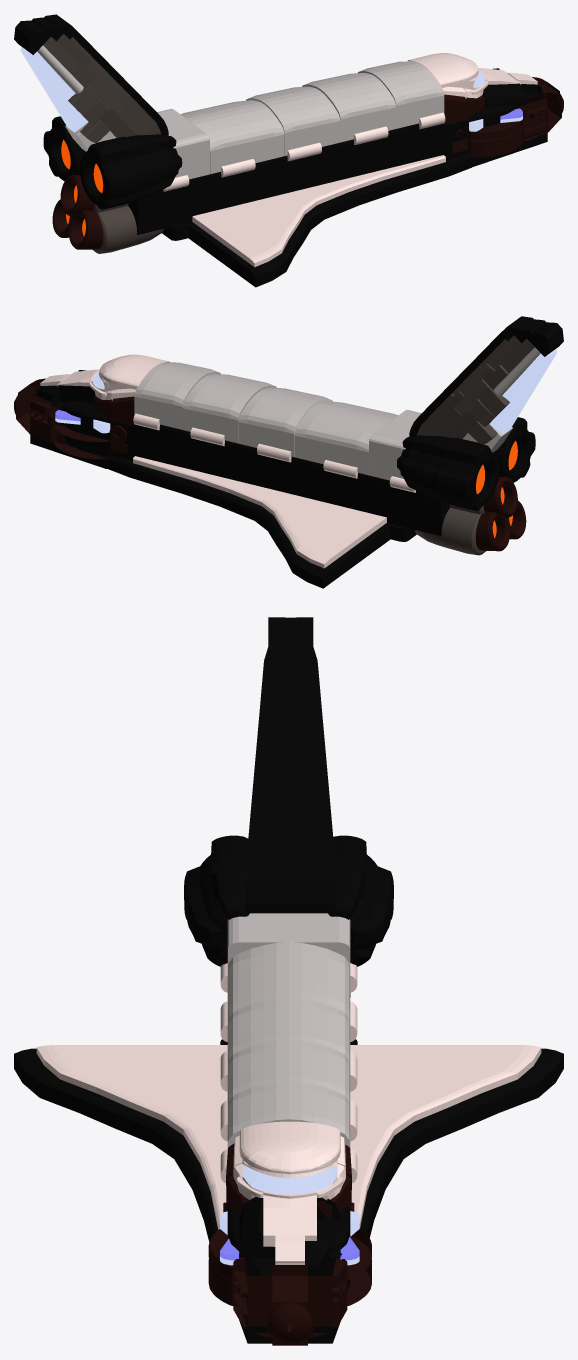
The model's file is space_ship.glb.
3 renders of one model, top to bottom at view 1: azimuth 30°, elevation 25°; view 2: azimuth 150°, elevation 25°; view 3: azimuth 270°, elevation 25°, orthographic. The views are drawn at different scales.
Visible parts, largest first — view 1: spaceship_top, spaceship_head_side_part6.003, spaceship_top_wing, spaceship_below_wing, spaceship_top_engine, spaceship_behind_wing_inner, spaceship_behind_wing_cover, spaceship_top_linker, spaceship_top_connector, spaceship_behind_wing_light, spaceship_bottom_engine_body, spaceship_top_engine.001 (+15 smaller); view 2: spaceship_top, spaceship_head_side_part6.003, spaceship_top_wing, spaceship_below_wing, spaceship_top_engine.001, spaceship_behind_wing_inner, spaceship_behind_wing_cover, spaceship_head_side_part6.004, spaceship_top_linker, spaceship_top_connector, spaceship_behind_wing_light, spaceship_bottom_engine_body.002 (+16 smaller); view 3: spaceship_top_wing, spaceship_top, spaceship_behind_wing_cover, spaceship_below_wing, spaceship_top_engine, spaceship_top_engine.001, spaceship_head_top_ceiling, spaceship_top_linker, spaceship_head_frontPats.001, spaceship_head_top_toe, spaceship_head_side_part2.001, spaceship_top_connector (+7 smaller).
Boxes of the visible parts, left/top/right/bottom form: spaceship_top: left=181, top=61, right=444, bottom=174; spaceship_head_side_part6.003: left=128, top=123, right=444, bottom=234; spaceship_top_wing: left=192, top=155, right=445, bottom=267; spaceship_below_wing: left=162, top=114, right=547, bottom=287; spaceship_top_engine: left=80, top=134, right=182, bottom=209; spaceship_behind_wing_inner: left=43, top=33, right=161, bottom=142; spaceship_behind_wing_cover: left=14, top=14, right=168, bottom=135; spaceship_top_linker: left=157, top=108, right=209, bottom=179; spaceship_top_connector: left=163, top=112, right=445, bottom=191; spaceship_behind_wing_light: left=20, top=47, right=88, bottom=132; spaceship_bottom_engine_body: left=93, top=206, right=163, bottom=253; spaceship_top_engine.001: left=43, top=116, right=116, bottom=181; spaceship_top: left=134, top=362, right=398, bottom=475; spaceship_head_side_part6.003: left=134, top=424, right=450, bottom=535; spaceship_top_wing: left=133, top=456, right=386, bottom=568; spaceship_below_wing: left=30, top=416, right=416, bottom=588; spaceship_top_engine.001: left=397, top=435, right=499, bottom=510; spaceship_behind_wing_inner: left=417, top=335, right=534, bottom=444; spaceship_behind_wing_cover: left=409, top=316, right=563, bottom=436; spaceship_head_side_part6.004: left=62, top=400, right=134, bottom=460; spaceship_top_linker: left=369, top=410, right=421, bottom=480; spaceship_top_connector: left=133, top=413, right=415, bottom=492; spaceship_behind_wing_light: left=489, top=349, right=557, bottom=434; spaceship_bottom_engine_body.002: left=414, top=507, right=485, bottom=555; spaceship_top_wing: left=36, top=1045, right=541, bottom=1229; spaceship_top: left=227, top=942, right=350, bottom=1149; spaceship_behind_wing_cover: left=246, top=617, right=335, bottom=913; spaceship_below_wing: left=14, top=1039, right=563, bottom=1343; spaceship_top_engine: left=184, top=835, right=249, bottom=966; spaceship_top_engine.001: left=328, top=835, right=393, bottom=966; spaceship_head_top_ceiling: left=239, top=1121, right=340, bottom=1174; spaceship_top_linker: left=227, top=913, right=350, bottom=964; spaceship_head_frontPats.001: left=248, top=1265, right=332, bottom=1337; spaceship_head_top_toe: left=263, top=1191, right=316, bottom=1264; spaceship_head_side_part2.001: left=239, top=1197, right=340, bottom=1274; spaceship_top_connector: left=220, top=963, right=357, bottom=1183.
Bounding box in the file's own units: 2.83 × 1.17 × 1.63.
Materials: 15 (11 with a texture image).
